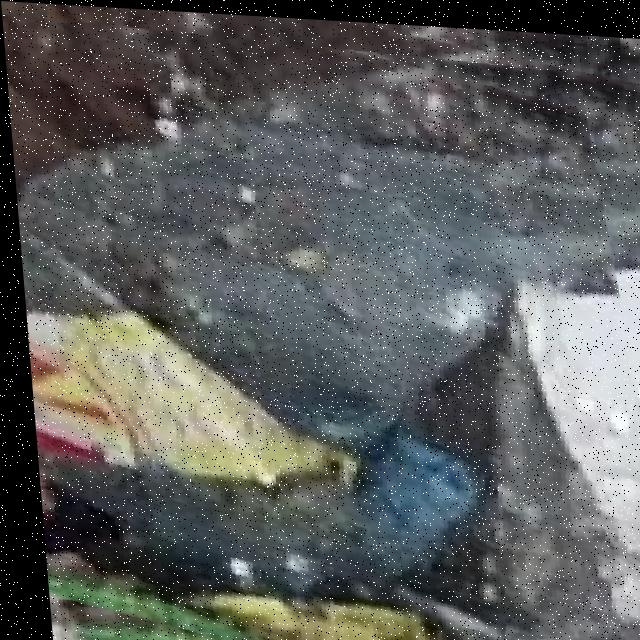litter: (12, 40, 625, 640)
